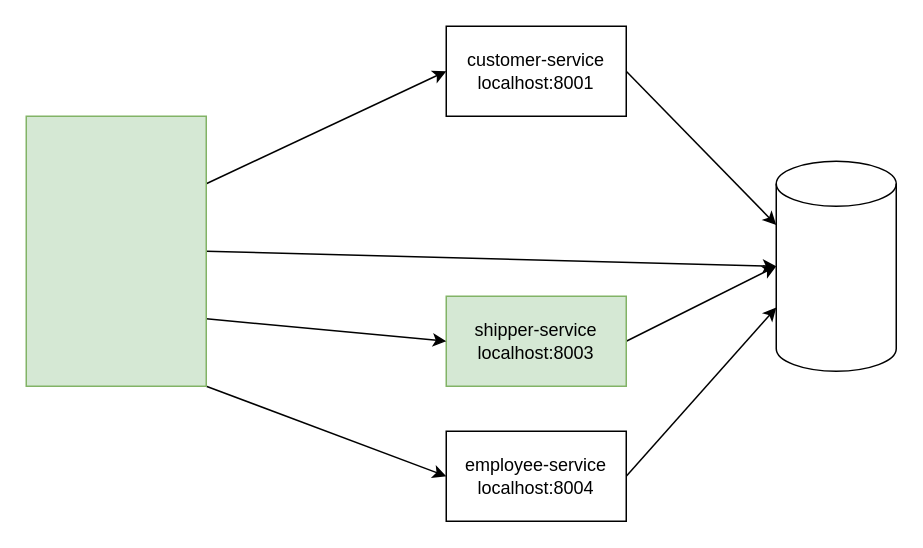
The diagram is 923 pixels wide and 548 high, and some of its shapes have lost their labels. The shapes that lost their labels are listed below. From the top down, each one's centre as x and y in pixels, then its label:
point (115, 250): order-service localhost:8002
point (835, 265): h2 database
